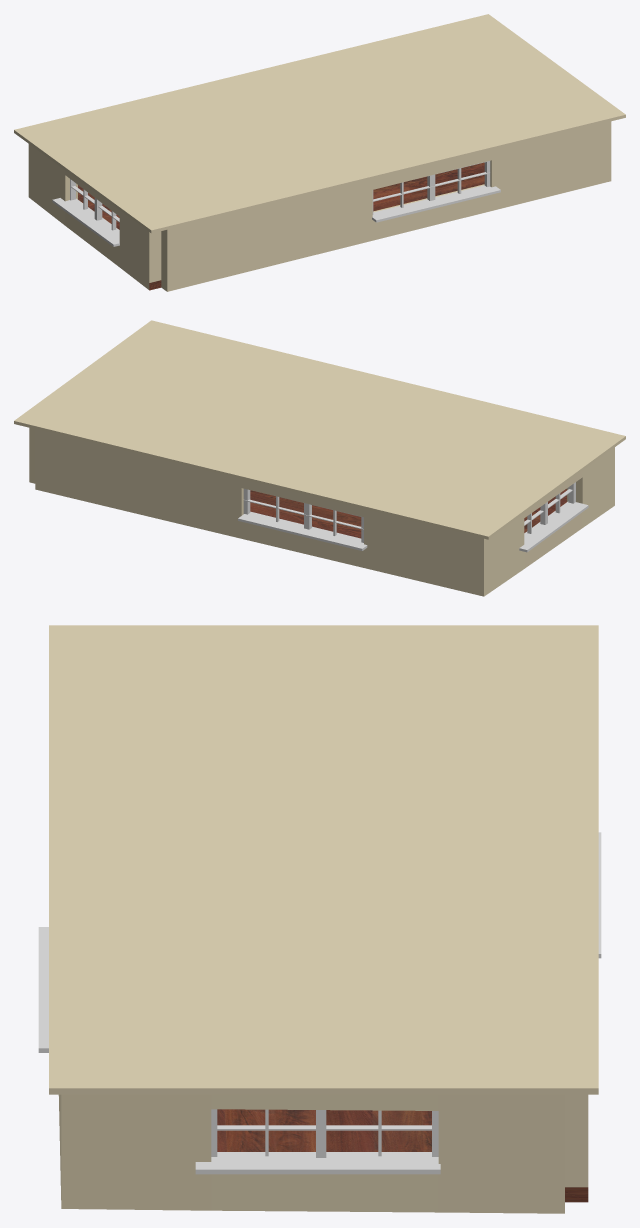
Rendered from simple-room_03.glb.
The picture shows the model from 3 angles, top to bottom: view 1: azimuth 30°, elevation 25°; view 2: azimuth 150°, elevation 25°; view 3: azimuth 270°, elevation 25°; orthographic projection. The views are drawn at different scales.
Visible parts, largest first — view 1: Cube, Cube.010, Cube.006; view 2: Cube, Cube.006; view 3: Cube, Cube.010, Cube.006.
Part boxes in pixels (left/top/right/bottom): Cube: left=14, top=14, right=625, bottom=233; Cube.010: left=161, top=121, right=611, bottom=291; Cube.006: left=28, top=144, right=484, bottom=290; Cube: left=14, top=320, right=625, bottom=539; Cube.006: left=35, top=429, right=614, bottom=596; Cube: left=49, top=625, right=598, bottom=1094; Cube.010: left=38, top=927, right=564, bottom=1213; Cube.006: left=217, top=832, right=601, bottom=1202.
Bounding box in the file's own units: 133 × 17.69 × 68.37.
Materials: 4 (1 with a texture image).
